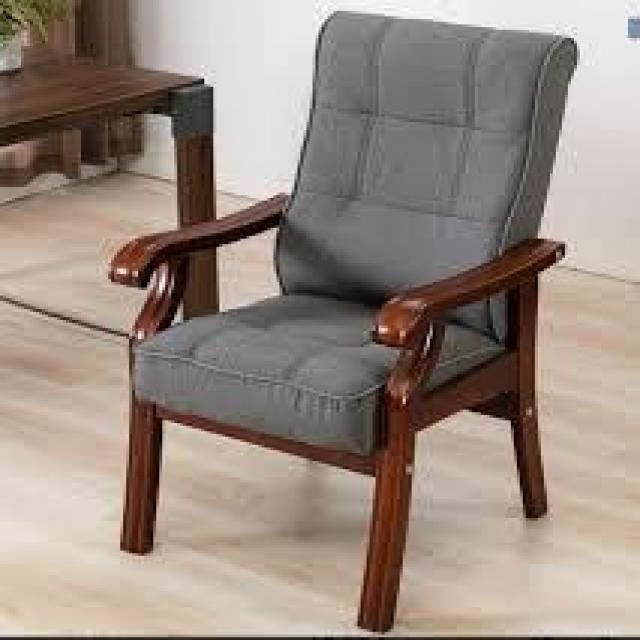chair: (71, 16, 594, 602)
